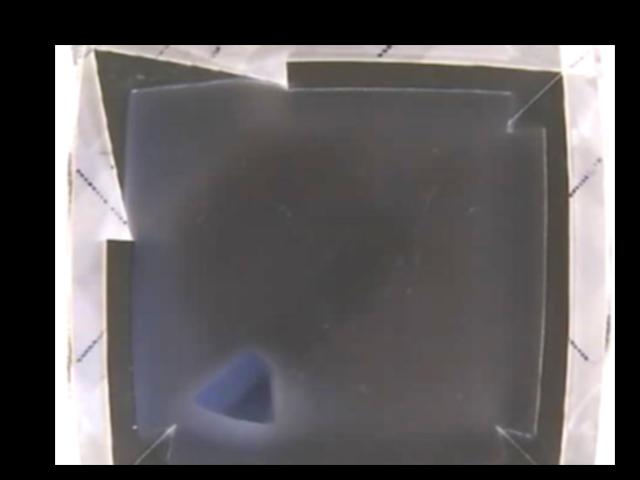Mooli: (189, 348, 274, 425)
